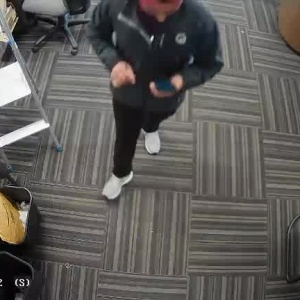person: (95, 0, 214, 203)
